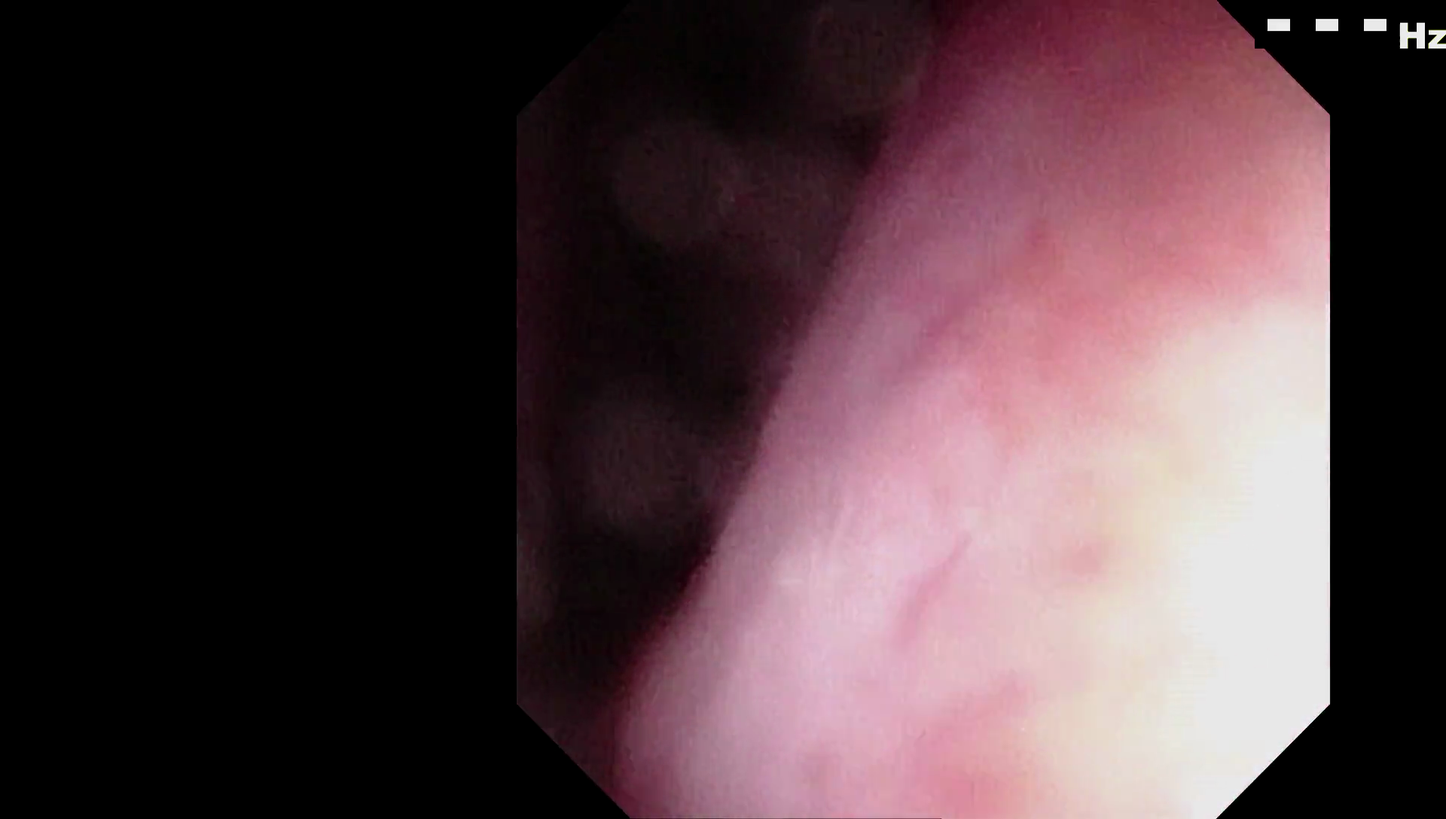close_wall: (755, 316, 1321, 708)
next: (520, 191, 815, 468), (524, 483, 740, 684), (645, 31, 846, 163)
